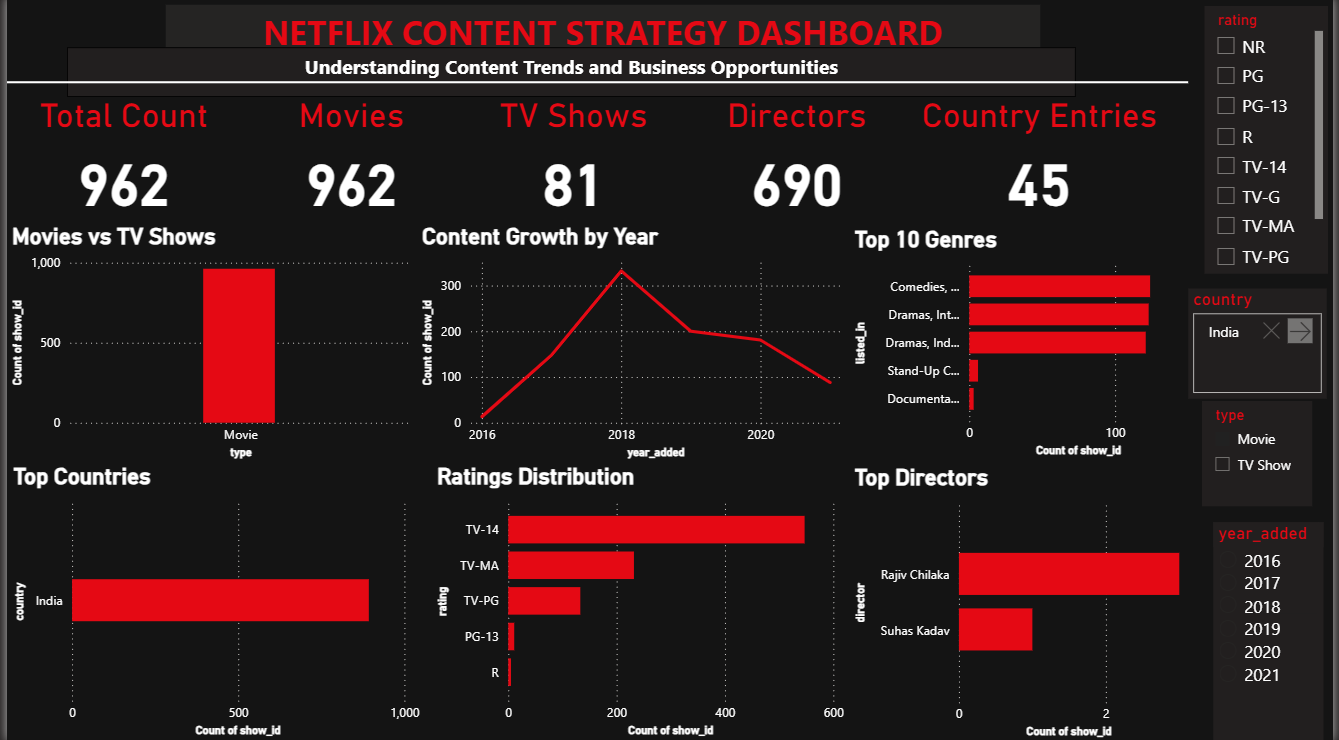

What the dashboard file says about the page in this screenshot:
{"tool":"powerbi","page":{"name":"Page 1","canvas":[1280,720],"ordinal":0},"visuals":[{"type":"card","title":"Total Count","fields":{"Values":["Count(netflix_cleaned.show_id)"]},"box":[1.2,97,223.6,122.6],"z":0},{"type":"card","title":"Movies","fields":{"Values":["netflix_cleaned.Movies"]},"box":[224.8,97,216.4,122.6],"z":1000},{"type":"card","title":"TV Shows","fields":{"Values":["netflix_cleaned.TV Shows"]},"box":[441.2,97,210.6,122.6],"z":2000},{"type":"card","title":"Directors","fields":{"Values":["Count(netflix_cleaned.director)"]},"box":[651.8,97,222.2,122.6],"z":3000},{"type":"card","title":"Country Entries","fields":{"Values":["Count(netflix_cleaned.country)"]},"box":[874,97,246.7,122.6],"z":4000},{"type":"clusteredColumnChart","title":"Movies vs TV Shows","fields":{"Category":["netflix_cleaned.type"],"Y":["CountNonNull(netflix_cleaned.show_id)"]},"box":[0,219.5,395.3,232.3],"z":5000},{"type":"lineChart","title":"Content Growth by Year","fields":{"Y":["CountNonNull(netflix_cleaned.show_id)"],"Category":["netflix_cleaned.year_added"]},"box":[395.3,219.5,417,232.3],"z":6000},{"type":"clusteredBarChart","title":"Top Countries","fields":{"Y":["CountNonNull(netflix_cleaned.show_id)"],"Category":["netflix_cleaned.country"]},"box":[1.4,451.6,402.5,268.4],"z":7000},{"type":"clusteredBarChart","title":"Ratings Distribution","fields":{"Y":["CountNonNull(netflix_cleaned.show_id)"],"Category":["netflix_cleaned.rating"]},"box":[410.5,451.6,402.5,268.4],"z":8000},{"type":"clusteredBarChart","title":"Top 10 Genres","fields":{"Category":["netflix_cleaned.listed_in"],"Y":["CountNonNull(netflix_cleaned.show_id)"]},"box":[813.7,222.2,341.9,228],"z":9000},{"type":"clusteredBarChart","title":"Top Directors","fields":{"Y":["CountNonNull(netflix_cleaned.show_id)"],"Category":["netflix_cleaned.director"]},"box":[813.4,452.1,327.5,268.7],"z":10000},{"type":"textSlicer","fields":{"Values":["netflix_cleaned.country"]},"box":[1140.1,282.3,133.9,106.2],"z":11000},{"type":"listSlicer","fields":{"Values":["netflix_cleaned.year_added"]},"box":[1164.3,507.9,106.8,212.1],"z":13000},{"type":"slicer","fields":{"Values":["netflix_cleaned.rating"]},"box":[1155.3,9.2,119.2,258.6],"z":14000},{"type":"textbox","box":[152.9,8.7,844,53.4],"z":15000},{"type":"textbox","box":[57.7,49.1,973.9,47.6],"z":16000},{"type":"shape","box":[0,8.4,1140.1,149.6],"z":16001},{"type":"slicer","fields":{"Values":["netflix_cleaned.type"]},"box":[1153.4,390.9,106.2,101.3],"z":16002}]}

Visuals, with their boxes in screenshot pixels (x1, y1, x2, y2), scaled from the page's 1280x720 canvas onto the 1339x740 screenshot:
"Total Count" card: (x1=1, y1=100, x2=235, y2=226)
"Movies" card: (x1=235, y1=100, x2=462, y2=226)
"TV Shows" card: (x1=462, y1=100, x2=682, y2=226)
"Directors" card: (x1=682, y1=100, x2=914, y2=226)
"Country Entries" card: (x1=914, y1=100, x2=1172, y2=226)
"Movies vs TV Shows" clusteredColumnChart: (x1=0, y1=226, x2=414, y2=464)
"Content Growth by Year" lineChart: (x1=414, y1=226, x2=850, y2=464)
"Top Countries" clusteredBarChart: (x1=1, y1=464, x2=423, y2=739)
"Ratings Distribution" clusteredBarChart: (x1=429, y1=464, x2=850, y2=739)
"Top 10 Genres" clusteredBarChart: (x1=851, y1=228, x2=1209, y2=463)
"Top Directors" clusteredBarChart: (x1=851, y1=465, x2=1193, y2=739)
textSlicer - netflix_cleaned.country: (x1=1193, y1=290, x2=1333, y2=399)
listSlicer - netflix_cleaned.year_added: (x1=1218, y1=522, x2=1330, y2=739)
slicer - netflix_cleaned.rating: (x1=1209, y1=9, x2=1333, y2=275)
textbox: (x1=160, y1=9, x2=1043, y2=64)
textbox: (x1=60, y1=50, x2=1079, y2=99)
shape: (x1=0, y1=9, x2=1193, y2=162)
slicer - netflix_cleaned.type: (x1=1207, y1=402, x2=1318, y2=506)
